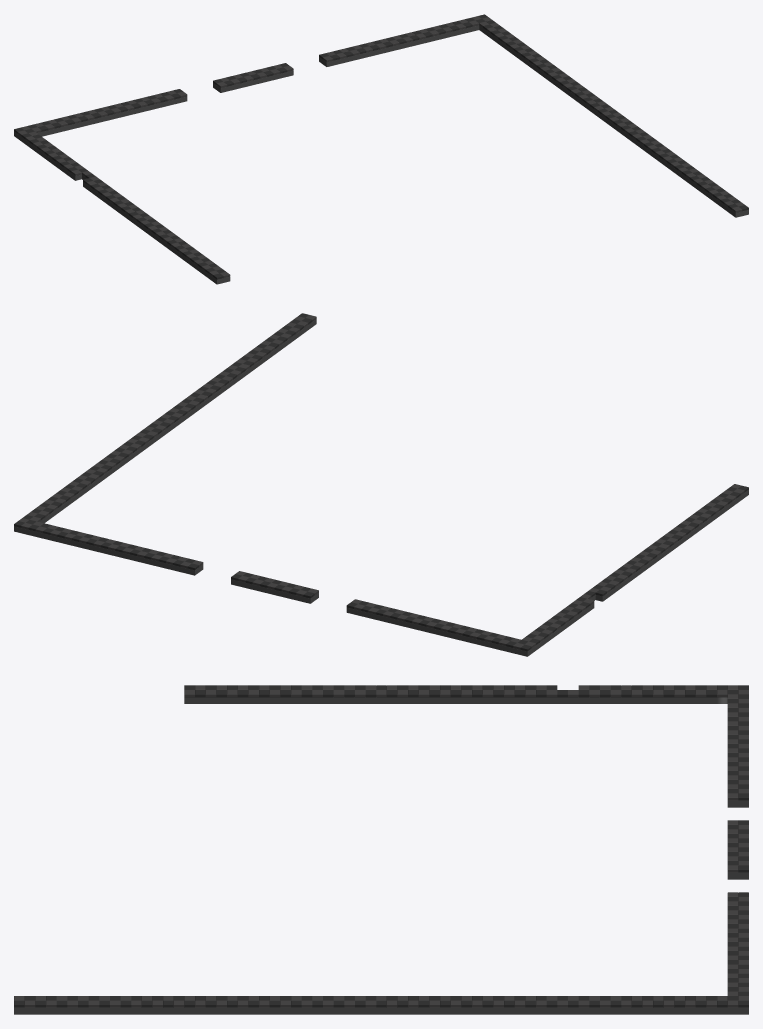
The model's file is Baked Mesh 6.obj.
3 views of the same model, one above another, from view 1: azimuth 30°, elevation 25°; view 2: azimuth 150°, elevation 25°; view 3: azimuth 270°, elevation 25° (orthographic). The views are drawn at different scales.
Parts seen in each view (by area): view 1: Baked Mesh 6; view 2: Baked Mesh 6; view 3: Baked Mesh 6.
Boxes of the visible parts, x1,y1,x2,y2 form: Baked Mesh 6: (14,14,748,284); Baked Mesh 6: (14,313,748,656); Baked Mesh 6: (14,685,748,1014).
Size of the model in its own units: 142 by 2 by 138.
1 material, 1 textured.
